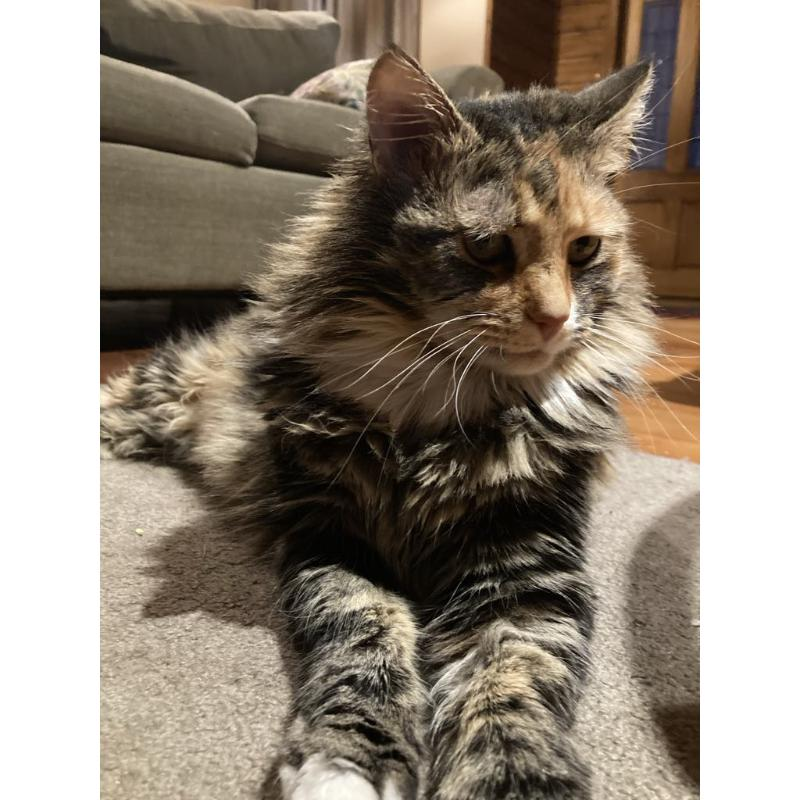red: (100, 49, 668, 800)
